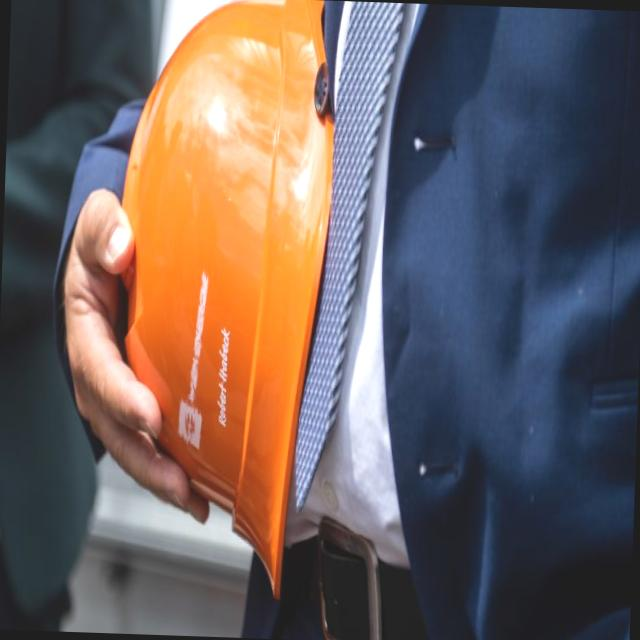helmet: (103, 13, 329, 580)
